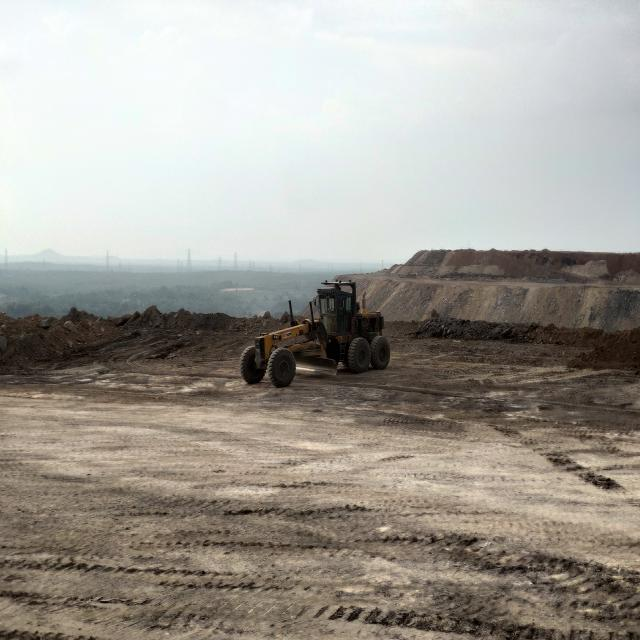buldozerpayloadergrader: (240, 282, 390, 387)
